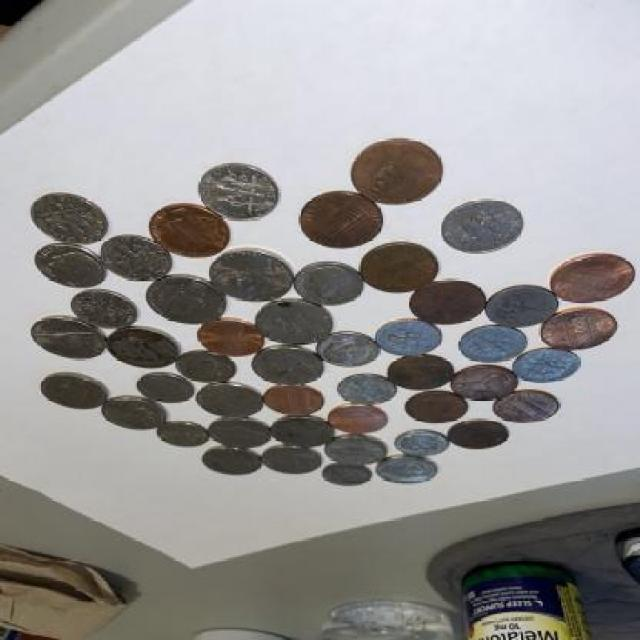Dime: (438, 200, 532, 256), (198, 162, 282, 224), (26, 189, 108, 248), (101, 236, 176, 286), (36, 244, 106, 294), (483, 282, 559, 328), (296, 260, 366, 309), (69, 289, 143, 331), (377, 318, 446, 360), (458, 324, 528, 364), (512, 348, 583, 384), (316, 334, 382, 371), (176, 349, 237, 386), (132, 372, 194, 405), (337, 372, 395, 406), (155, 420, 211, 451), (396, 429, 450, 458), (321, 462, 374, 489)
Nickel: (210, 250, 298, 304), (149, 274, 226, 328), (254, 298, 334, 348), (26, 313, 106, 362), (109, 326, 180, 372), (253, 346, 324, 389), (34, 369, 104, 411), (100, 394, 168, 434), (195, 382, 263, 418), (270, 417, 338, 451), (202, 417, 270, 451), (203, 444, 266, 478), (376, 457, 442, 488), (324, 436, 390, 466), (262, 446, 322, 476)
Penny: (348, 135, 450, 208), (550, 252, 638, 308), (298, 192, 384, 248), (149, 198, 229, 258), (360, 241, 440, 294), (536, 308, 622, 354), (406, 280, 486, 329), (384, 354, 456, 394), (451, 364, 520, 400), (198, 322, 264, 358), (262, 384, 328, 418), (404, 391, 468, 426), (496, 388, 558, 424), (326, 402, 389, 436), (450, 422, 508, 451)
